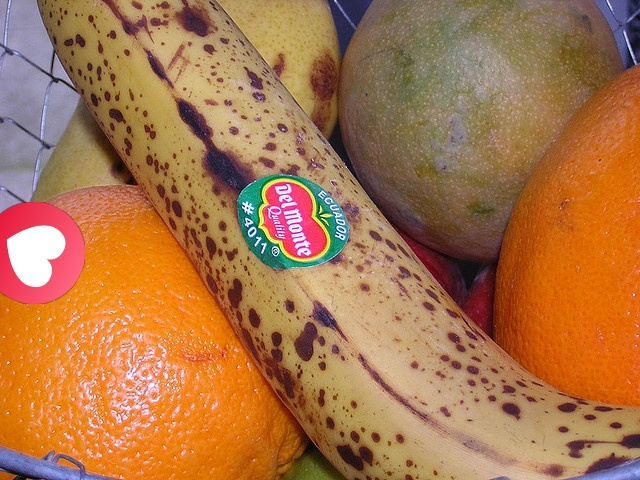love: (0, 202, 85, 304)
